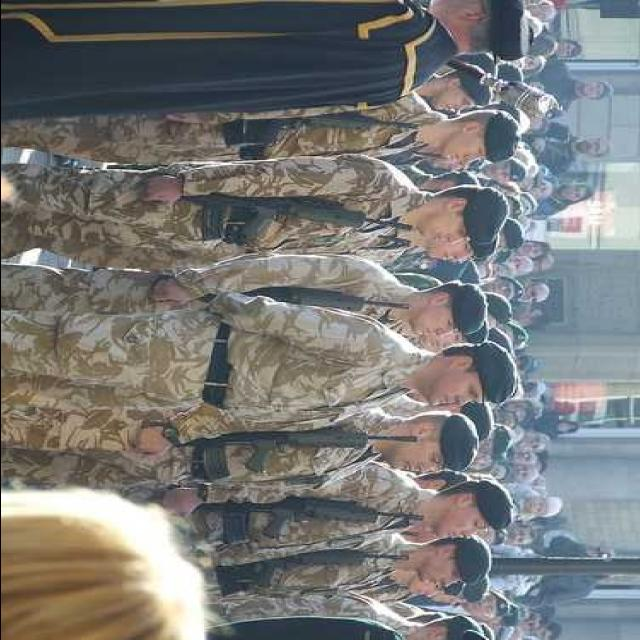heavyweapon: (121, 411, 433, 491), (133, 178, 430, 258), (131, 484, 435, 554)
